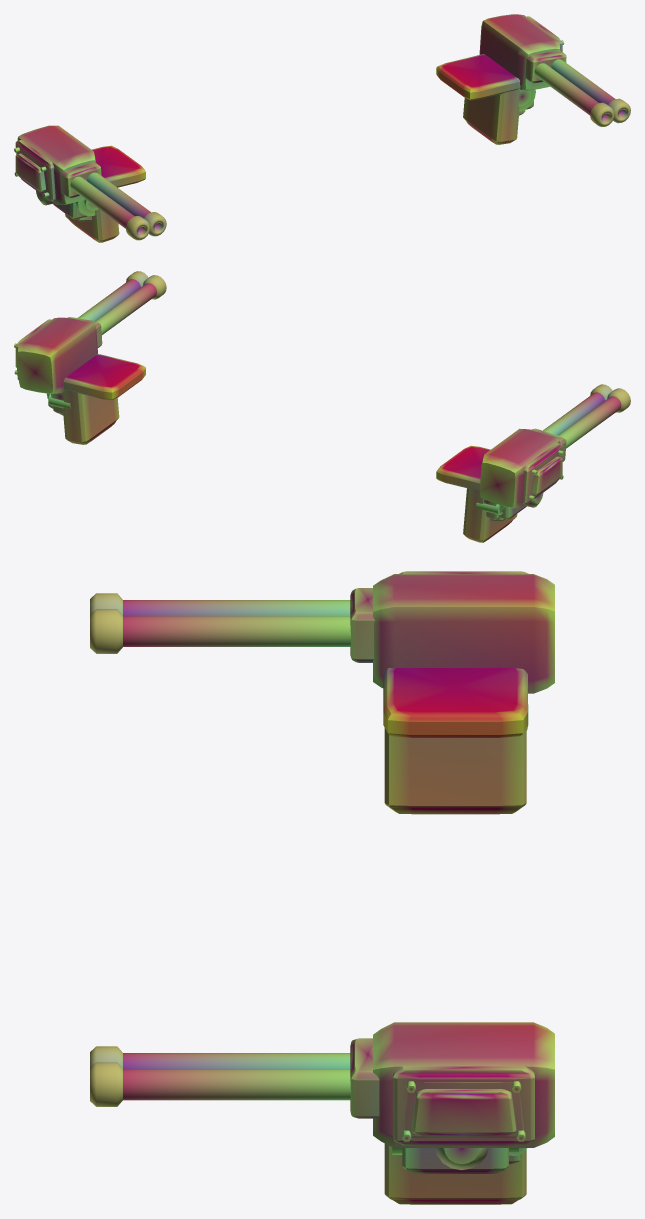
File: llm_gen_shoulder_pods_104_2b9452.glb
3 views of the same model, one above another, from view 1: azimuth 30°, elevation 25°; view 2: azimuth 150°, elevation 25°; view 3: azimuth 270°, elevation 25° (orthographic). The views are drawn at different scales.
Parts seen in each view (by area): view 1: adapter_shoulder_yoke_r, cannon_cradle_1_crimson_gloss_r, adapter_shoulder_yoke_l, cannon_cradle_1_crimson_gloss_l, beam_barrel_in_3_barrel_metal_r, beam_barrel_out_4_barrel_metal_l, cannon_side_shroud_blue_8_adapter_dark_l, beam_barrel_in_3_barrel_metal_l, beam_barrel_out_4_barrel_metal_r, adapter_sub_heatsink_bezel_dark_7_adapter_dark_l, adapter_sub_mantlet_dark_2_adapter_dark_l, adapter_sub_mantlet_dark_2_adapter_dark_r (+4 smaller); view 2: adapter_shoulder_yoke_r, cannon_cradle_1_crimson_gloss_r, cannon_cradle_1_crimson_gloss_l, adapter_shoulder_yoke_l, beam_barrel_out_4_barrel_metal_l, beam_barrel_in_3_barrel_metal_r, cannon_side_shroud_blue_8_adapter_dark_l, beam_barrel_in_3_barrel_metal_l, beam_barrel_out_4_barrel_metal_r, adapter_sub_heatsink_bezel_dark_7_adapter_dark_l; view 3: adapter_shoulder_yoke_l, cannon_cradle_1_crimson_gloss_l, cannon_cradle_1_crimson_gloss_r, beam_barrel_out_4_barrel_metal_r, beam_barrel_in_3_barrel_metal_l, adapter_shoulder_yoke_r, cannon_side_shroud_blue_8_adapter_dark_r, adapter_sub_heatsink_bezel_dark_7_adapter_dark_r, beam_barrel_in_3_barrel_metal_r, beam_barrel_out_4_barrel_metal_l, adapter_sub_mantlet_dark_2_adapter_dark_r, adapter_sub_mantlet_dark_2_adapter_dark_l (+3 smaller).
Boxes of the visible parts, x1,y1,x2,y2 form: adapter_shoulder_yoke_r: (436, 54, 535, 144); cannon_cradle_1_crimson_gloss_r: (479, 14, 560, 90); adapter_shoulder_yoke_l: (53, 145, 145, 242); cannon_cradle_1_crimson_gloss_l: (17, 125, 96, 204); beam_barrel_in_3_barrel_metal_r: (534, 63, 598, 115); beam_barrel_out_4_barrel_metal_l: (70, 176, 134, 228); cannon_side_shroud_blue_8_adapter_dark_l: (14, 147, 49, 197); beam_barrel_in_3_barrel_metal_l: (87, 172, 150, 218); beam_barrel_out_4_barrel_metal_r: (551, 59, 614, 104); adapter_sub_heatsink_bezel_dark_7_adapter_dark_l: (15, 139, 55, 201); adapter_sub_mantlet_dark_2_adapter_dark_l: (60, 161, 101, 197); adapter_sub_mantlet_dark_2_adapter_dark_r: (525, 50, 566, 83); adapter_shoulder_yoke_r: (46, 354, 145, 444); cannon_cradle_1_crimson_gloss_r: (17, 317, 97, 393); cannon_cradle_1_crimson_gloss_l: (479, 428, 560, 508); adapter_shoulder_yoke_l: (436, 445, 526, 542); beam_barrel_out_4_barrel_metal_l: (558, 396, 621, 448); beam_barrel_in_3_barrel_metal_r: (95, 283, 156, 335); cannon_side_shroud_blue_8_adapter_dark_l: (528, 450, 563, 500); beam_barrel_in_3_barrel_metal_l: (543, 392, 604, 435); beam_barrel_out_4_barrel_metal_r: (78, 279, 140, 320); adapter_sub_heatsink_bezel_dark_7_adapter_dark_l: (522, 443, 562, 504); adapter_shoulder_yoke_l: (383, 668, 527, 814); cannon_cradle_1_crimson_gloss_l: (373, 574, 554, 693); cannon_cradle_1_crimson_gloss_r: (373, 1022, 554, 1147); beam_barrel_out_4_barrel_metal_r: (123, 1069, 350, 1100); beam_barrel_in_3_barrel_metal_l: (123, 616, 350, 646); adapter_shoulder_yoke_r: (384, 1143, 526, 1204); cannon_side_shroud_blue_8_adapter_dark_r: (402, 1081, 525, 1141); adapter_sub_heatsink_bezel_dark_7_adapter_dark_r: (393, 1066, 534, 1145); beam_barrel_in_3_barrel_metal_r: (123, 1053, 350, 1068); beam_barrel_out_4_barrel_metal_l: (123, 600, 350, 615); adapter_sub_mantlet_dark_2_adapter_dark_r: (350, 1038, 379, 1118); adapter_sub_mantlet_dark_2_adapter_dark_l: (350, 588, 374, 662).
Bounding box in the file's own units: 109 × 18.93 × 41.83.
